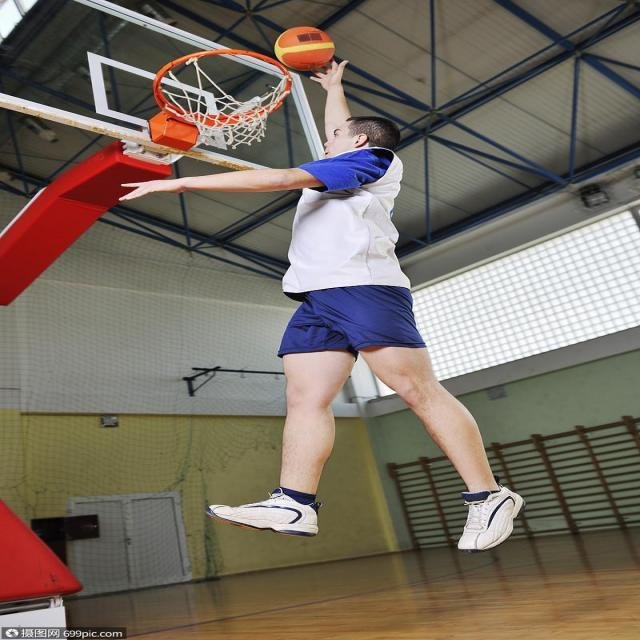rim: (276, 25, 336, 73)
